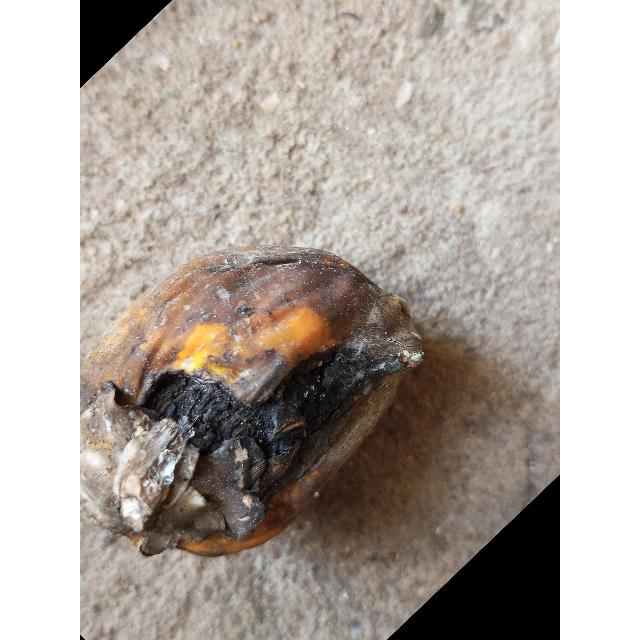damaged: (80, 248, 424, 561)
